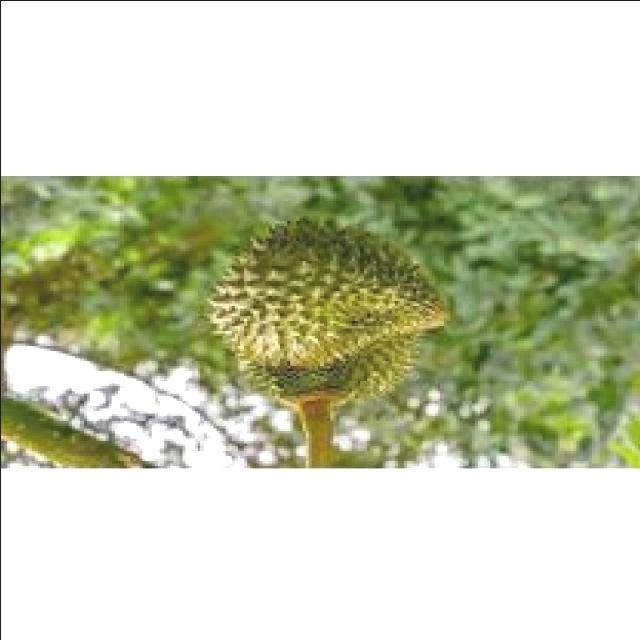agrume: (200, 213, 449, 415)
